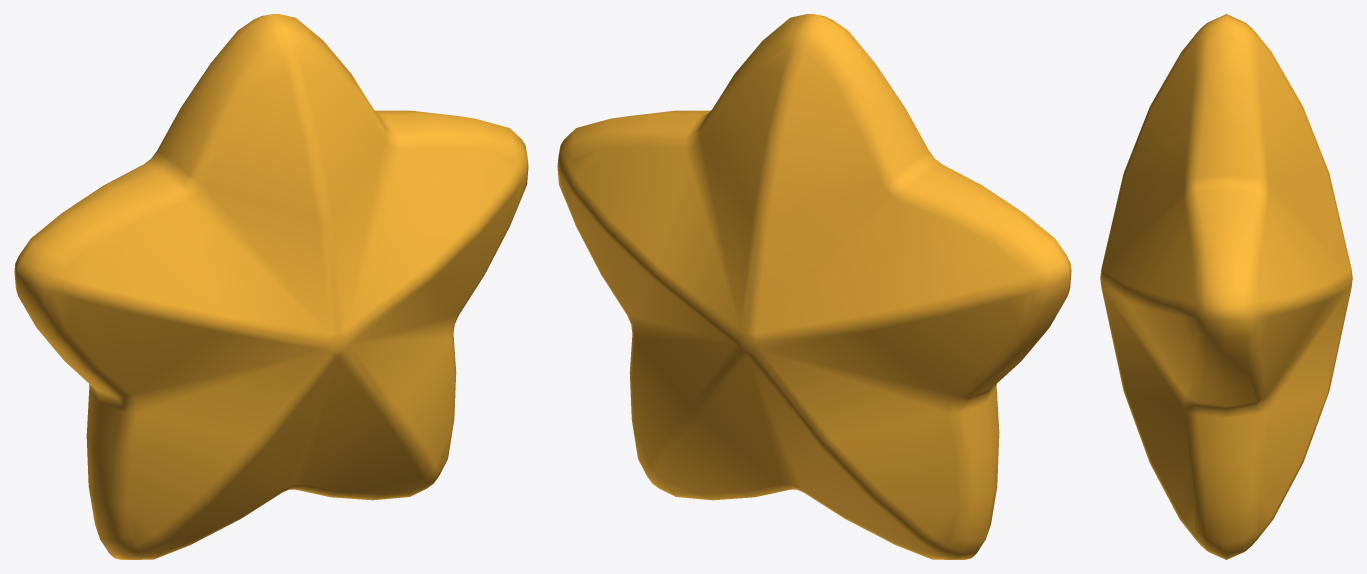
3 renders of one model, left to right at view 1: azimuth 30°, elevation 25°; view 2: azimuth 150°, elevation 25°; view 3: azimuth 270°, elevation 25°, orthographic. The views are drawn at different scales.
Visible parts, largest first — view 1: model_0.077; view 2: model_0.077; view 3: model_0.077.
Part boxes in pixels (box(x1,y1,x2,y2)): model_0.077: box(14, 14, 528, 559); model_0.077: box(557, 14, 1071, 559); model_0.077: box(1100, 14, 1352, 559).
Bounding box in the file's own units: 3.93 × 3.78 × 1.81.
